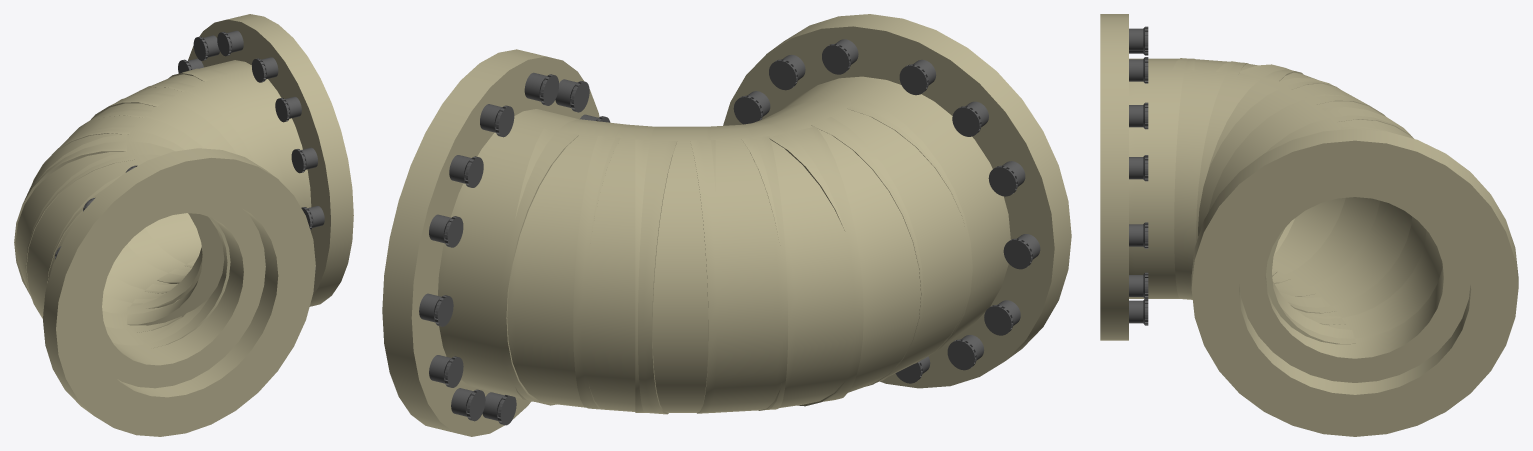
Rendered from pipeCorner.fbx.
3 views of the same model, side by side, from view 1: azimuth 30°, elevation 25°; view 2: azimuth 150°, elevation 25°; view 3: azimuth 270°, elevation 25° (orthographic). The views are drawn at different scales.
Visible parts, largest first — view 1: Цилиндр.035, Цилиндр.036, Цилиндр.039, Цилиндр.038; view 2: Цилиндр.035, Цилиндр.036, Цилиндр.039, Цилиндр.037, Цилиндр.038; view 3: Цилиндр.035, Цилиндр.039, Цилиндр.036, Цилиндр.037.
Boxes of the visible parts, x1,y1,x2,y2 form: Цилиндр.035: [14, 60, 311, 388]; Цилиндр.036: [43, 148, 315, 436]; Цилиндр.039: [188, 14, 353, 306]; Цилиндр.038: [178, 30, 324, 271]; Цилиндр.035: [438, 76, 1010, 414]; Цилиндр.036: [723, 14, 1071, 388]; Цилиндр.039: [382, 49, 599, 436]; Цилиндр.037: [733, 39, 1040, 383]; Цилиндр.038: [419, 72, 610, 425]; Цилиндр.035: [1129, 58, 1470, 382]; Цилиндр.039: [1191, 128, 1518, 436]; Цилиндр.036: [1100, 14, 1128, 340]; Цилиндр.037: [1129, 26, 1148, 325].
Size of the model in its own units: 251 by 192 by 246.
